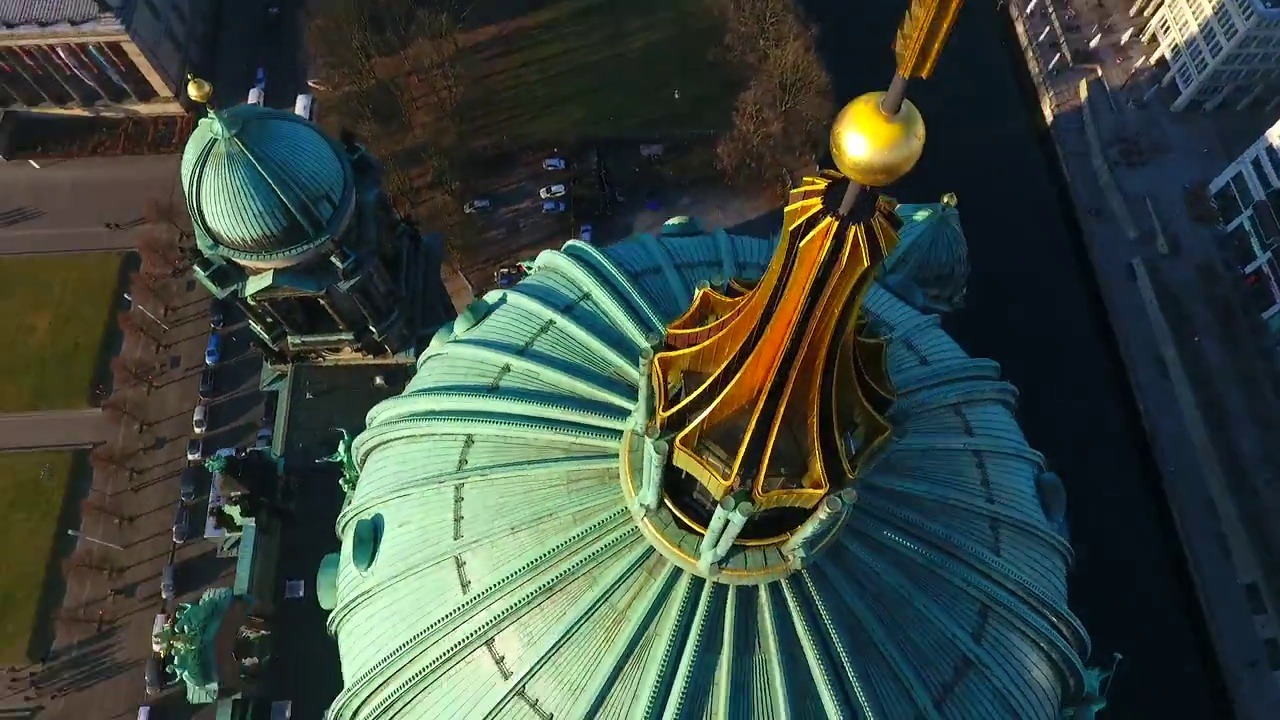car: (536, 178, 571, 204)
